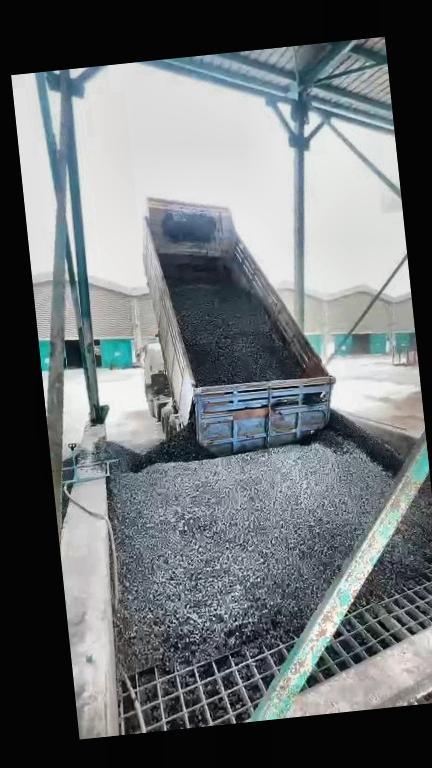gravel: (109, 434, 391, 672), (159, 254, 301, 386), (349, 476, 432, 611), (90, 420, 213, 472), (320, 410, 404, 475)
sand: (367, 391, 425, 436)
